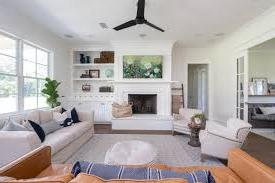chair: (200, 117, 253, 161), (168, 107, 203, 136)
clock: (192, 115, 205, 127)
door: (187, 66, 205, 115)
fan: (112, 1, 171, 32)
light: (135, 29, 149, 42), (214, 27, 229, 39), (96, 20, 110, 31), (61, 32, 77, 40), (191, 30, 203, 40)
sofa: (0, 145, 275, 183), (0, 105, 94, 162)
table: (186, 124, 205, 150)
